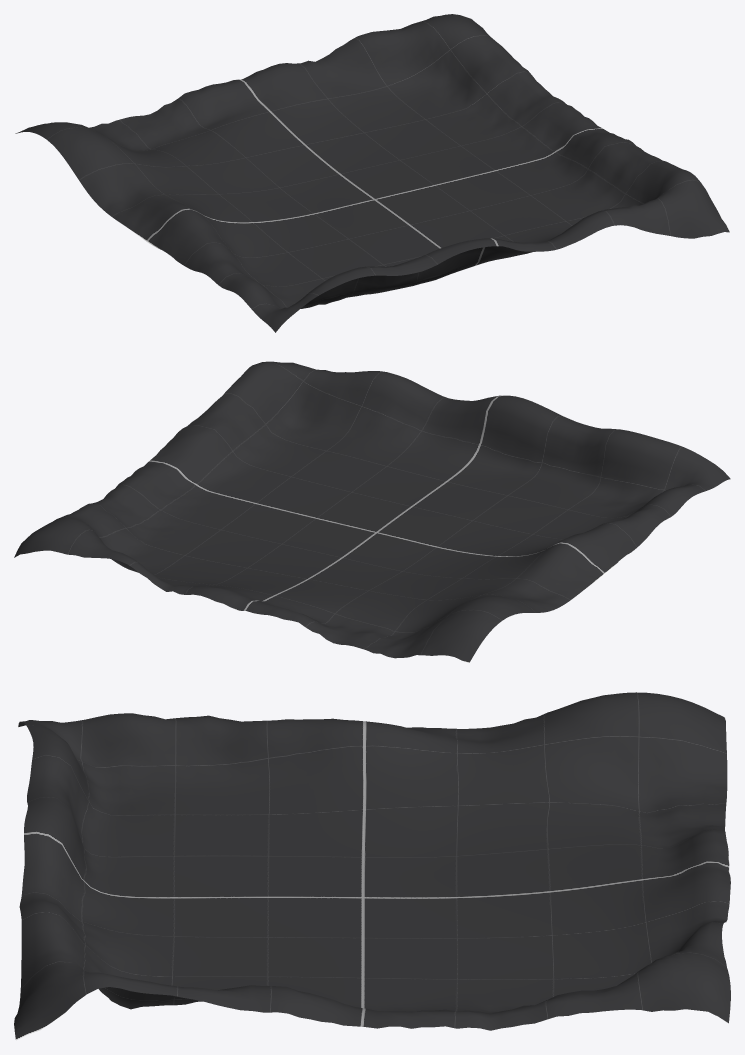
File: terrain_test_tile_128m.gltf
3 views of the same model, one above another, from view 1: azimuth 30°, elevation 25°; view 2: azimuth 150°, elevation 25°; view 3: azimuth 270°, elevation 25° (orthographic). The views are drawn at different scales.
Parts seen in each view (by area): view 1: Landscape.011; view 2: Landscape.011; view 3: Landscape.011.
Boxes of the visible parts, x1,y1,x2,y2 form: Landscape.011: [15, 14, 730, 332]; Landscape.011: [14, 361, 730, 663]; Landscape.011: [14, 692, 730, 1040].
Bounding box in the file's own units: 129 × 13.91 × 130.
Materials: 1 (1 with a texture image).
